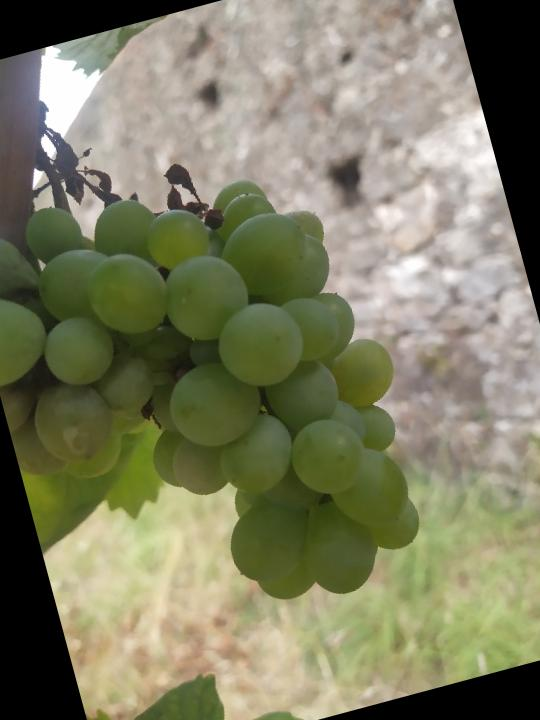grape: (0, 0, 452, 673)
